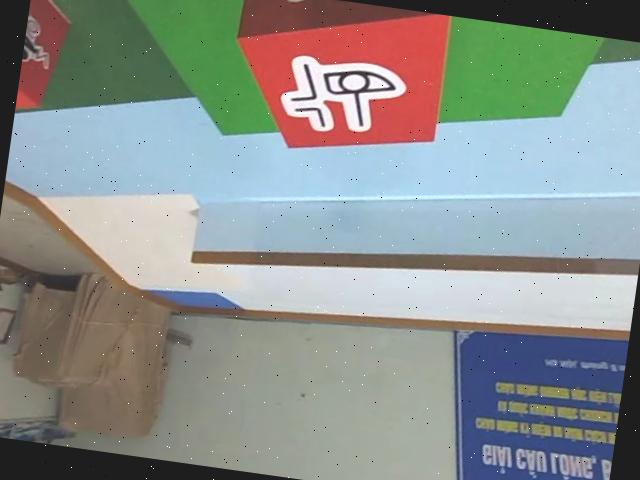R1: (13, 0, 78, 132)
R2 Real: (225, 0, 453, 175)
